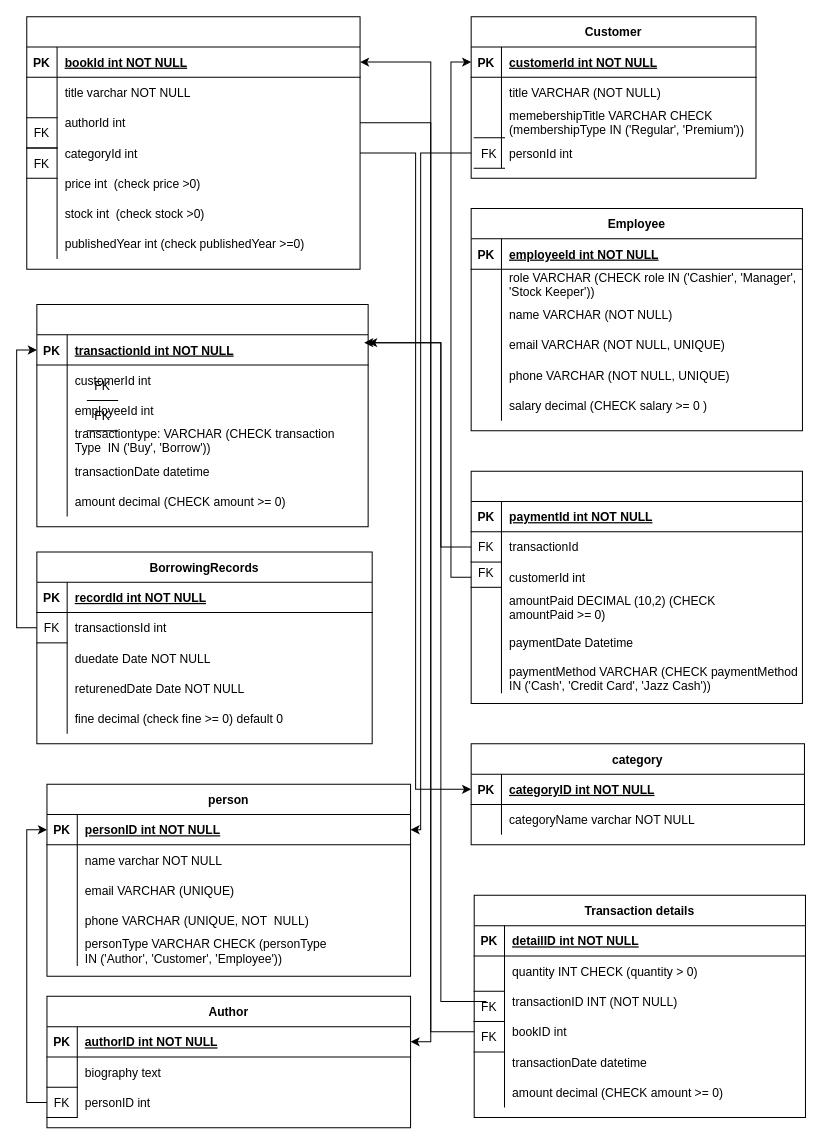
The diagram is 822 pixels wide and 1144 high, and some of its shapes have lost their labels. Each missing label, with the box of its shape:
Books: (26, 16, 360, 269)
Payments: (470, 470, 802, 703)
Transactions: (36, 304, 368, 527)
